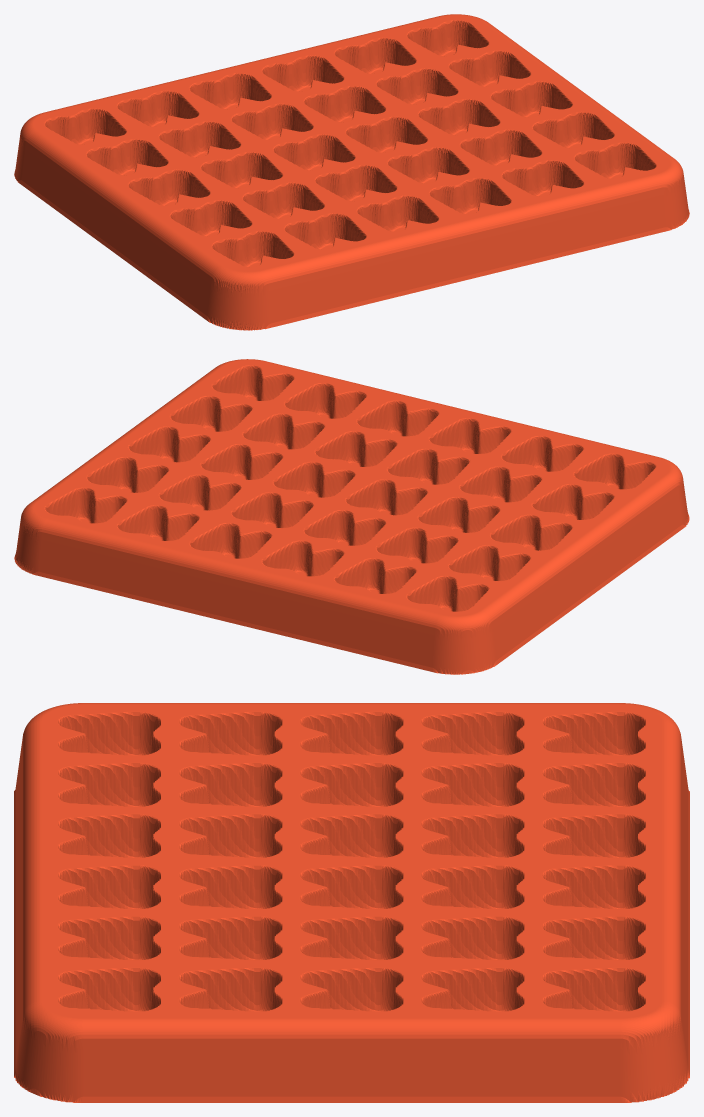
Rendered from mold.glb.
3 views of the same model, one above another, from view 1: azimuth 30°, elevation 25°; view 2: azimuth 150°, elevation 25°; view 3: azimuth 270°, elevation 25° (orthographic). The views are drawn at different scales.
Parts seen in each view (by area): view 1: geometry_0; view 2: geometry_0; view 3: geometry_0.
Boxes of the visible parts, x1=… form: geometry_0: x1=14, y1=14, x2=689, y2=330; geometry_0: x1=14, y1=359, x2=689, y2=674; geometry_0: x1=14, y1=703, x2=689, y2=1102.
Bounding box in the file's own units: 0.104 × 0.0105 × 0.0882.
